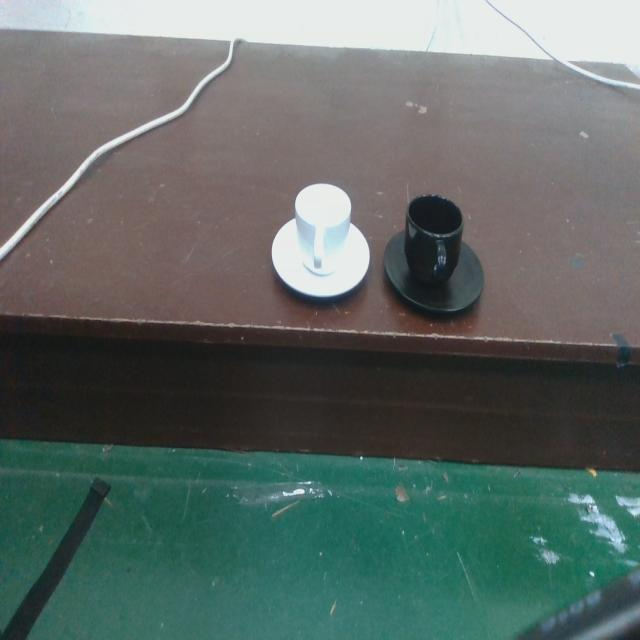black: (380, 190, 485, 318)
white: (269, 179, 372, 305)
